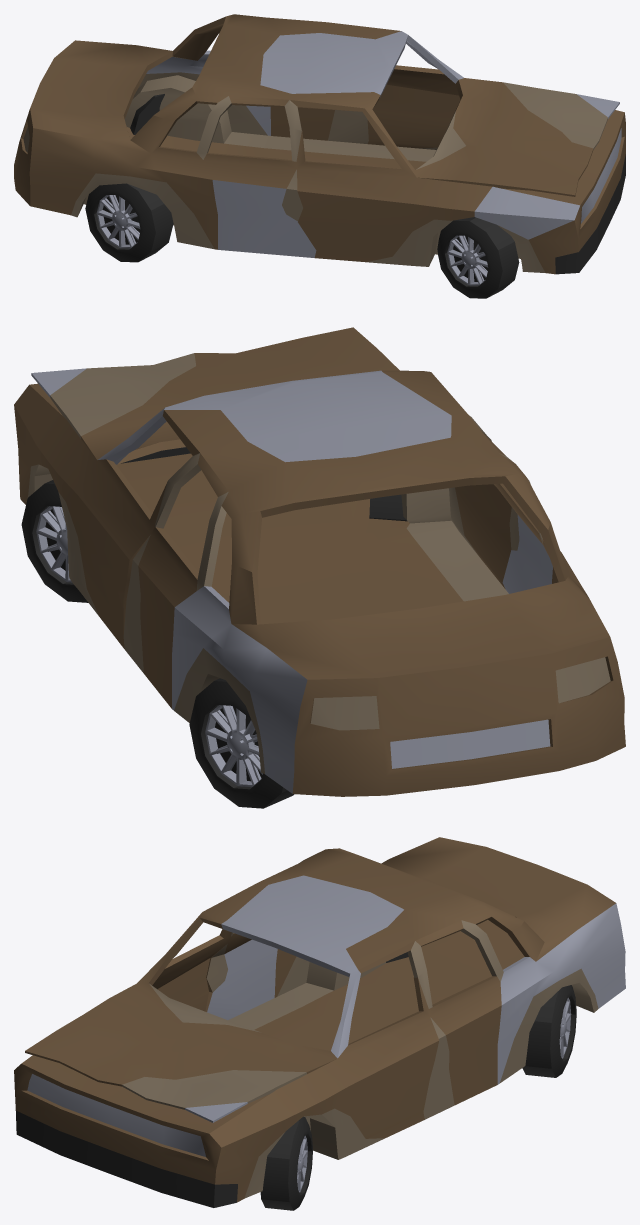
The model's file is BrokenCar_Env.fbx.
The picture shows the model from 3 angles, top to bottom: view 1: azimuth 30°, elevation 25°; view 2: azimuth 150°, elevation 25°; view 3: azimuth 270°, elevation 25°; orthographic projection. The views are drawn at different scales.
Parts seen in each view (by area): view 1: Debris_BrokenCar.001; view 2: Debris_BrokenCar.001; view 3: Debris_BrokenCar.001.
Boxes of the visible parts, x1=… form: Debris_BrokenCar.001: x1=14, y1=14, x2=625, y2=298; Debris_BrokenCar.001: x1=14, y1=327, x2=625, y2=808; Debris_BrokenCar.001: x1=14, y1=837, x2=625, y2=1210.
Size of the model in its own units: 95.42 by 31.69 by 90.81.
